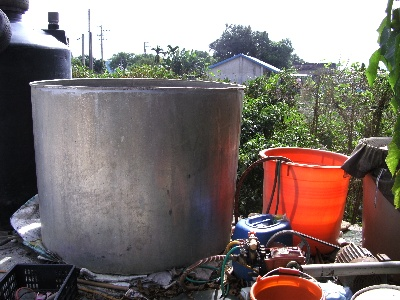bucket: (26, 73, 247, 276), (259, 143, 354, 260)
